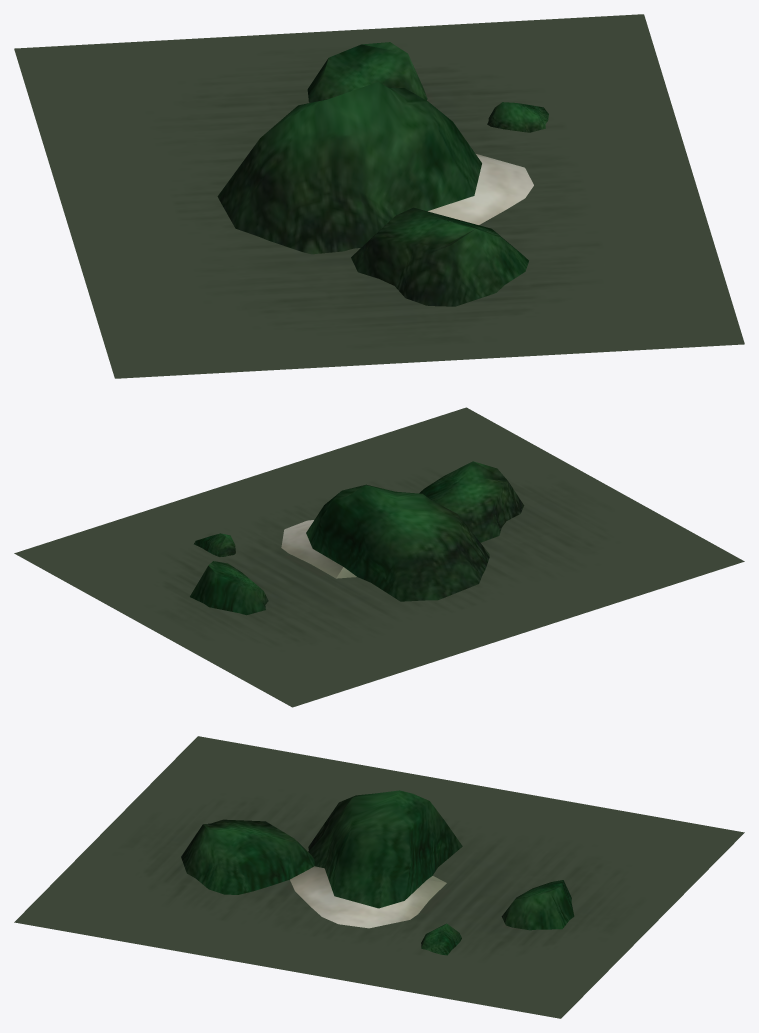
Rendered from pir_m_are_isl_cutthroat_worldmap.fbx.
3 renders of one model, top to bottom at view 1: azimuth 30°, elevation 25°; view 2: azimuth 150°, elevation 25°; view 3: azimuth 270°, elevation 25°, orthographic. The views are drawn at different scales.
Parts seen in each view (by area): view 1: sketchmark, topmesh_0, topmesh_3, topmesh_1, topmesh_4, topmesh_2; view 2: sketchmark, topmesh_0, topmesh_3, topmesh_1, topmesh_4, topmesh_2; view 3: sketchmark, topmesh_0, topmesh_3, topmesh_4, topmesh_1, topmesh_2.
Part boxes in pixels (left/top/right/bottom): sketchmark: left=14, top=14, right=744, bottom=378; topmesh_0: left=217, top=82, right=481, bottom=254; topmesh_3: left=351, top=207, right=528, bottom=306; topmesh_1: left=307, top=42, right=427, bottom=102; topmesh_4: left=428, top=154, right=533, bottom=224; topmesh_2: left=487, top=102, right=548, bottom=132; sketchmark: left=14, top=407, right=744, bottom=707; topmesh_0: left=306, top=484, right=489, bottom=601; topmesh_3: left=419, top=461, right=524, bottom=542; topmesh_1: left=190, top=561, right=268, bottom=615; topmesh_4: left=281, top=520, right=356, bottom=578; topmesh_2: left=194, top=533, right=235, bottom=556; sketchmark: left=14, top=736, right=744, bottom=1018; topmesh_0: left=308, top=790, right=462, bottom=908; topmesh_3: left=181, top=819, right=314, bottom=894; topmesh_4: left=290, top=866, right=446, bottom=928; topmesh_1: left=501, top=880, right=574, bottom=930; topmesh_2: left=421, top=923, right=461, bottom=955.
Bounding box in the file's own units: 36.03 × 6.17 × 39.36.
Materials: 2 (2 with a texture image).
